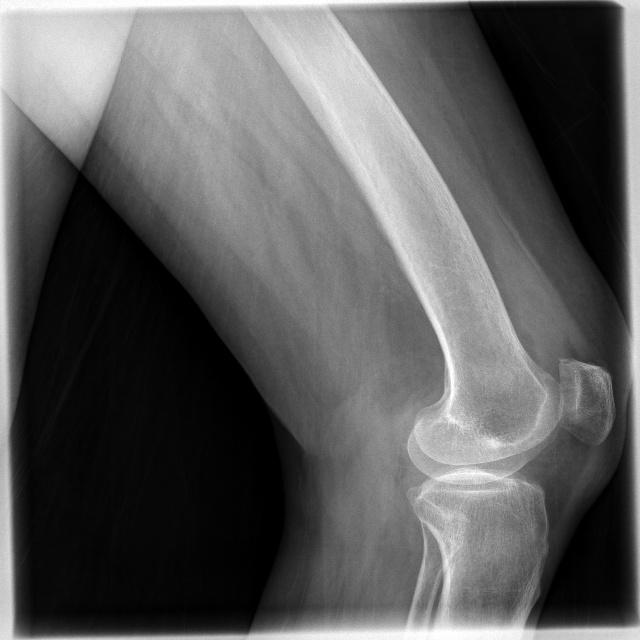Knee: (397, 354, 614, 556)
